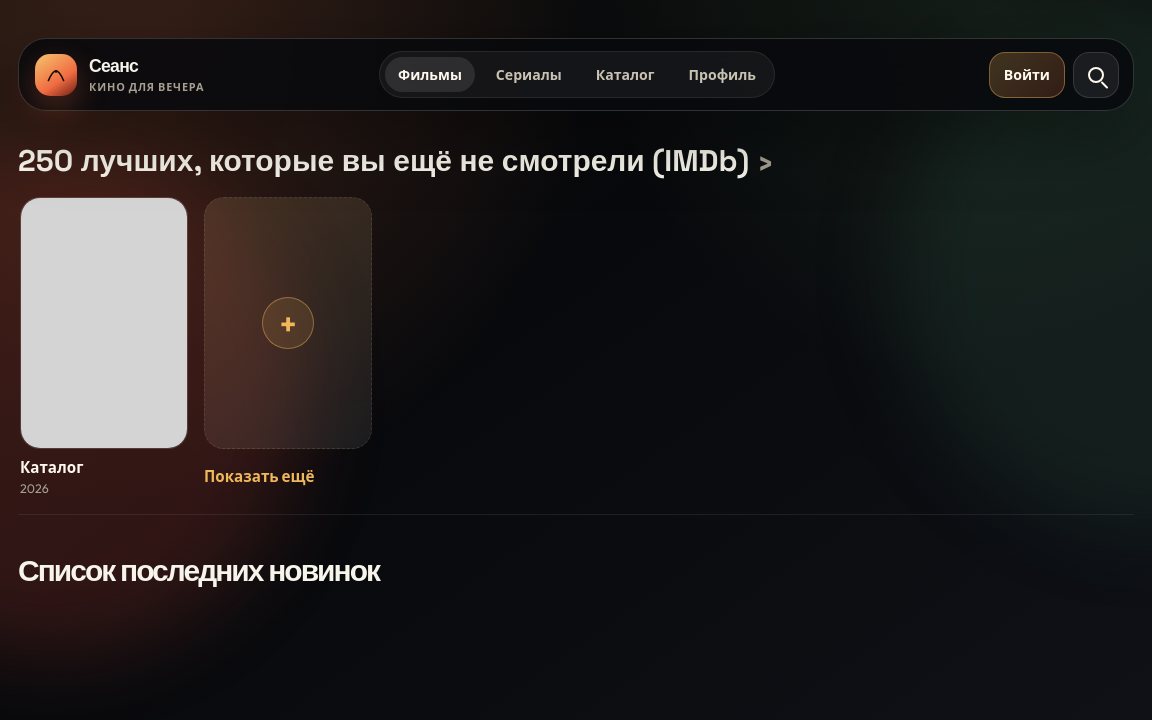
App › does not paginate search results
(page scrolled)
Expected: the button "Каталог" is shown, 583,57 -> 668,92
Step 1. Click the button named "Открыть поиск" → (1096,74), box 1073,52 -> 1119,98
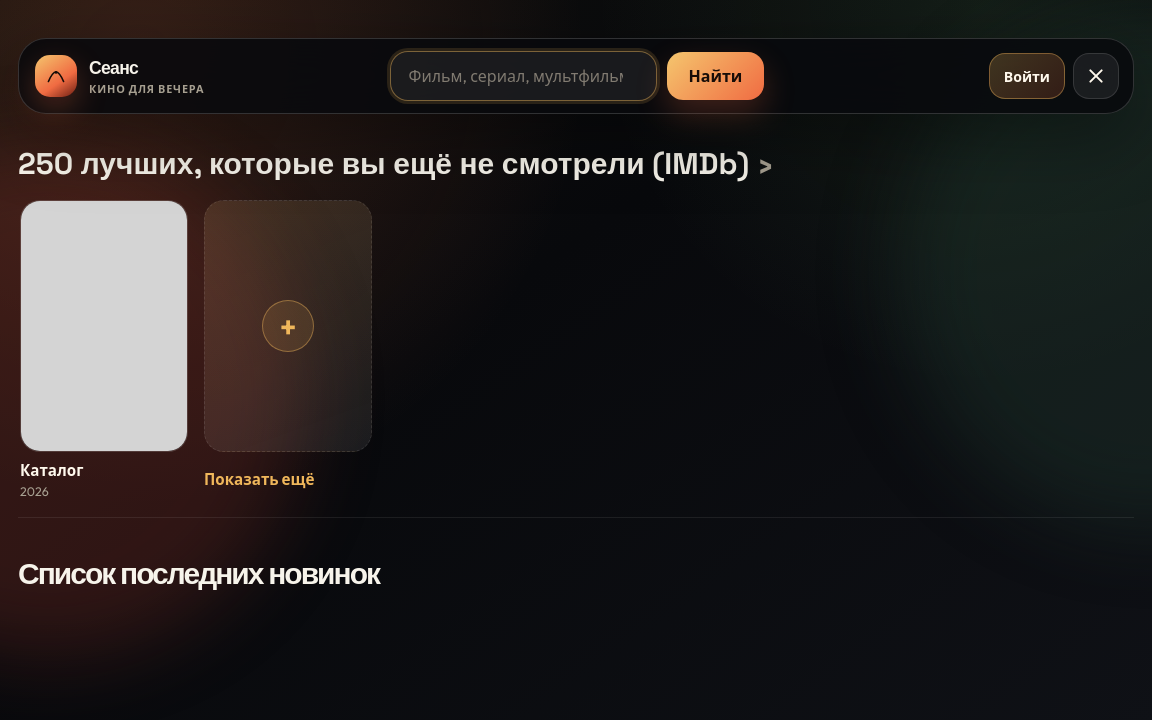
Step 2. Type "тест" into the search field named "Поиск фильма" → (523,76), box 390,51 -> 657,101
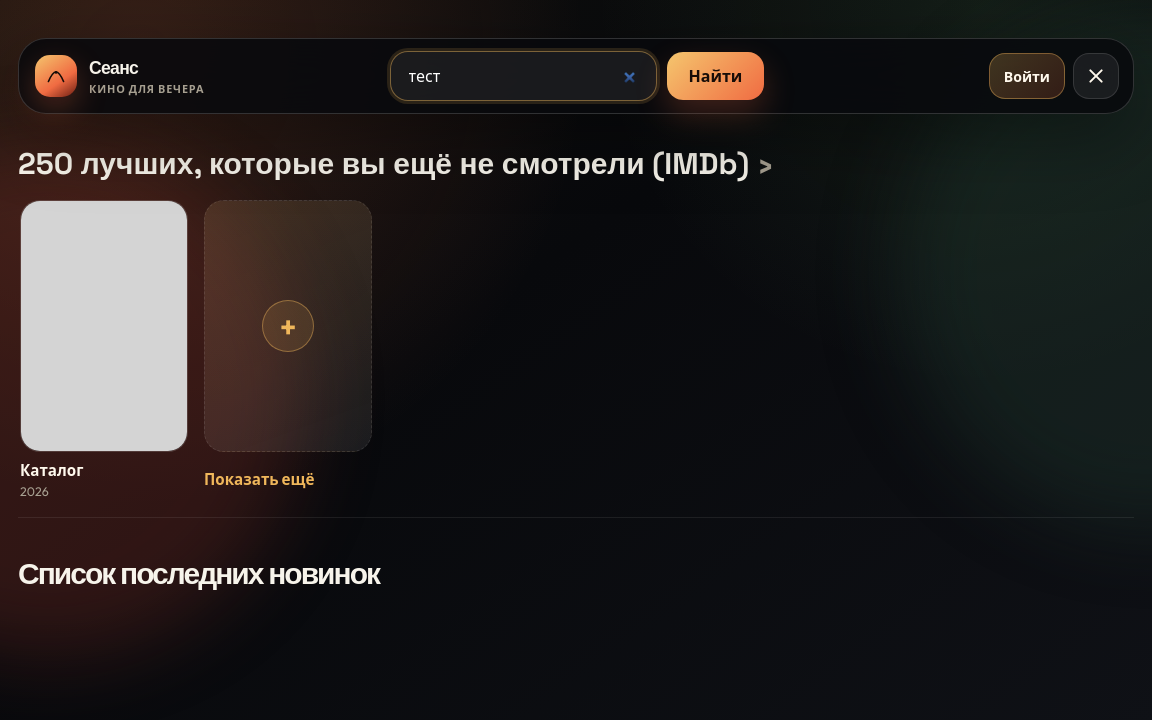
Step 3. Click the button "Найти" → (716,76), box 667,52 -> 764,100
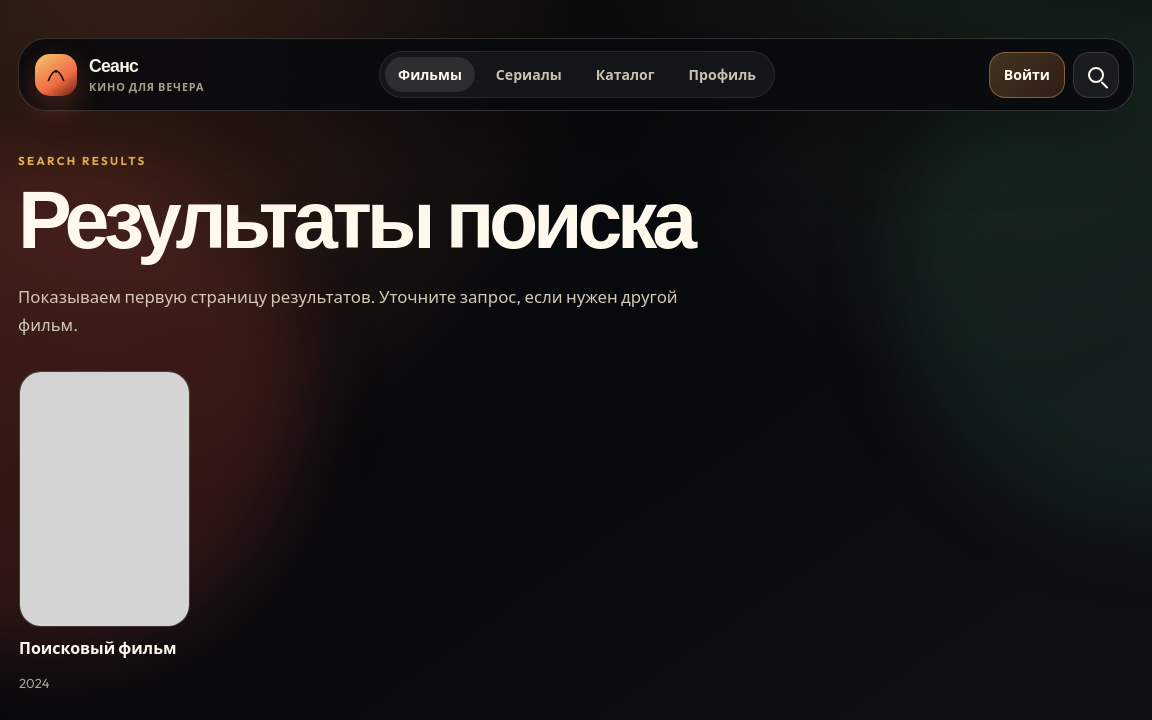
Now the text "Поисковый фильм" is shown, box 19,639 -> 190,670
